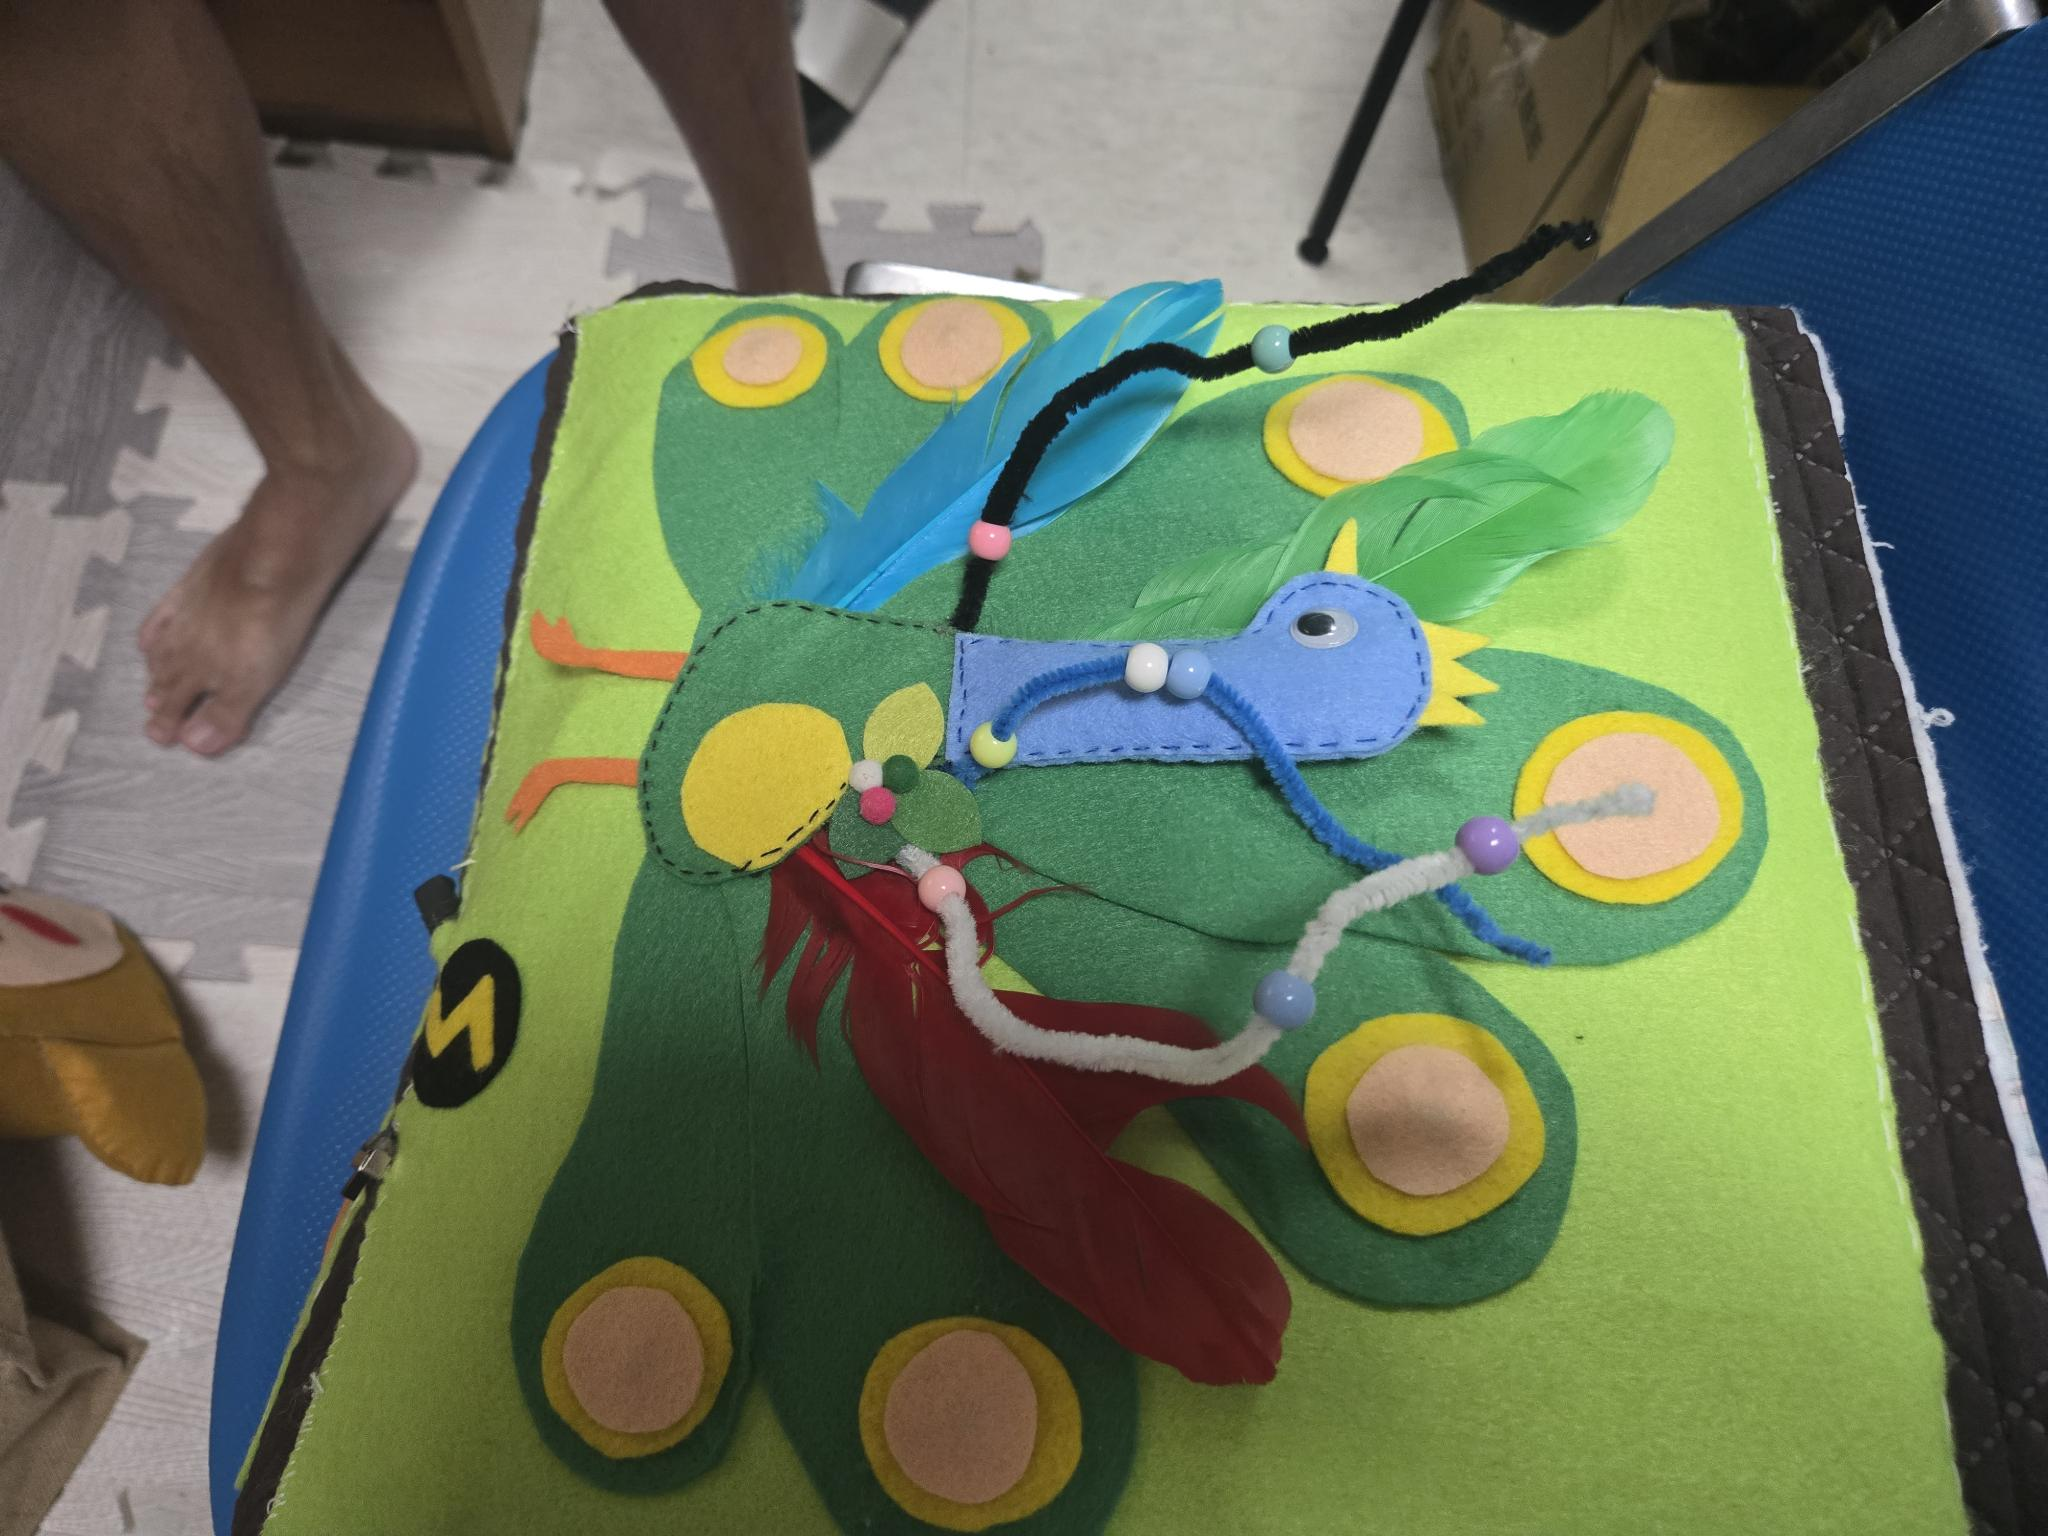bead: (1451, 805, 1517, 887), (1247, 963, 1317, 1028), (953, 516, 1026, 574), (906, 849, 972, 910), (961, 707, 1018, 778), (1242, 318, 1298, 381), (1168, 650, 1221, 712), (1119, 639, 1168, 697)
